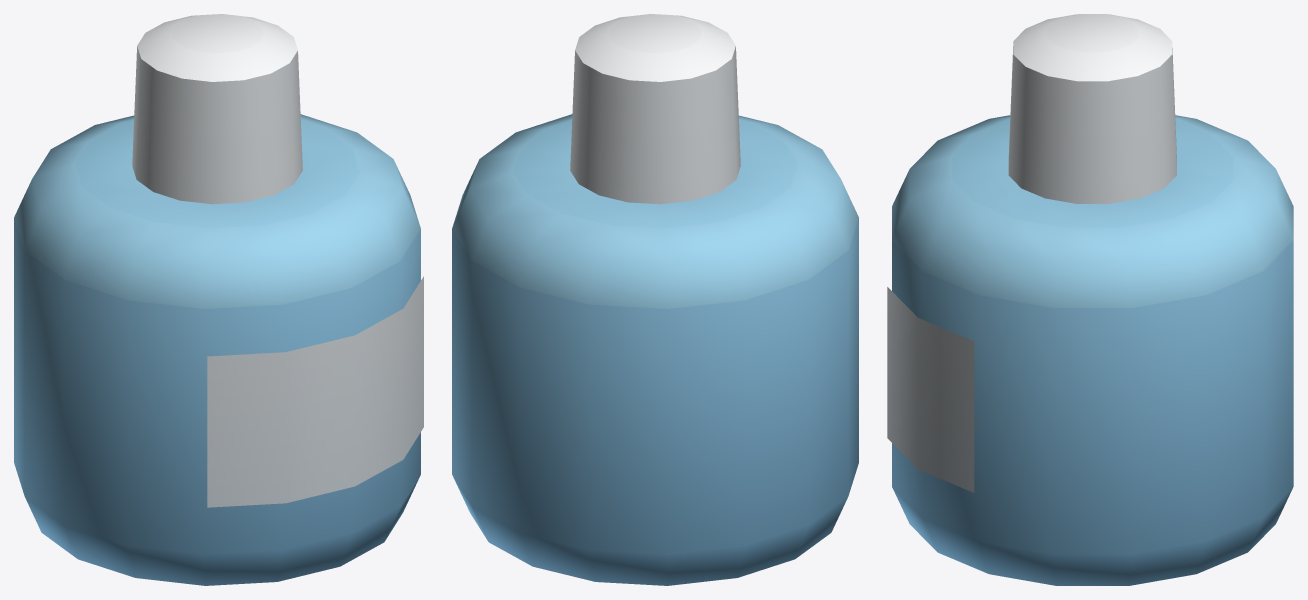
Rendered from Container Bathroom B.glb.
3 renders of one model, left to right at view 1: azimuth 30°, elevation 25°; view 2: azimuth 150°, elevation 25°; view 3: azimuth 270°, elevation 25°, orthographic.
Parts seen in each view (by area): view 1: container_bathroom_B_blue; view 2: container_bathroom_B_blue; view 3: container_bathroom_B_blue.
Part boxes in pixels (box(x1,y1,x2,y2)): container_bathroom_B_blue: box(14, 14, 423, 585); container_bathroom_B_blue: box(452, 14, 858, 585); container_bathroom_B_blue: box(887, 14, 1293, 585).
Bounding box in the file's own units: 0.312 × 0.422 × 0.3162.
Materials: 1 (1 with a texture image).
